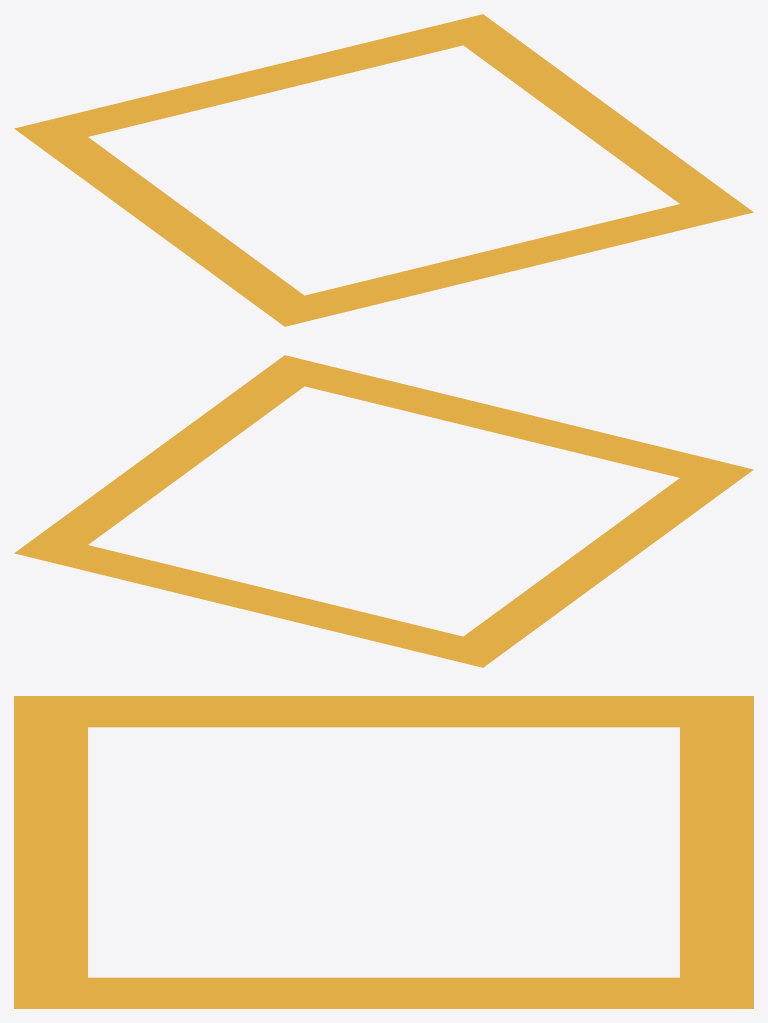
Rendered from prototype-kit--indicator-square-a.glb.
3 renders of one model, top to bottom at view 1: azimuth 30°, elevation 25°; view 2: azimuth 150°, elevation 25°; view 3: azimuth 270°, elevation 25°, orthographic. The views are drawn at different scales.
Parts seen in each view (by area): view 1: indicator-square-a; view 2: indicator-square-a; view 3: indicator-square-a.
Part boxes in pixels (left/top/right/bottom): indicator-square-a: left=14, top=14, right=753, bottom=326; indicator-square-a: left=14, top=355, right=753, bottom=667; indicator-square-a: left=14, top=696, right=753, bottom=1008.
Bounding box in the file's own units: 1 × 0 × 1.
Materials: 1 (1 with a texture image).
